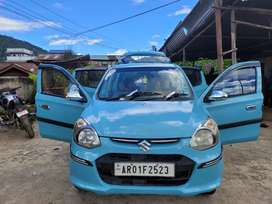AR01F2523: (114, 162, 175, 176)
